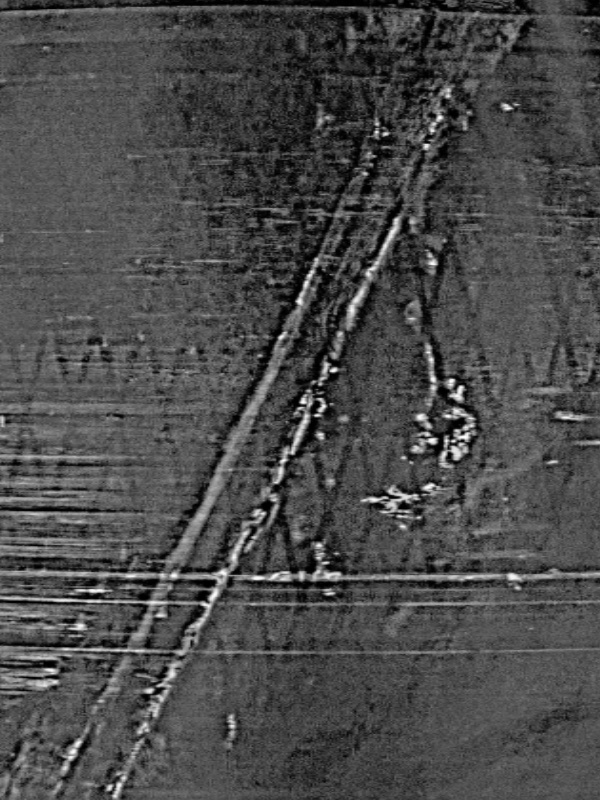splice_vulcanized: (1, 16, 527, 799)
